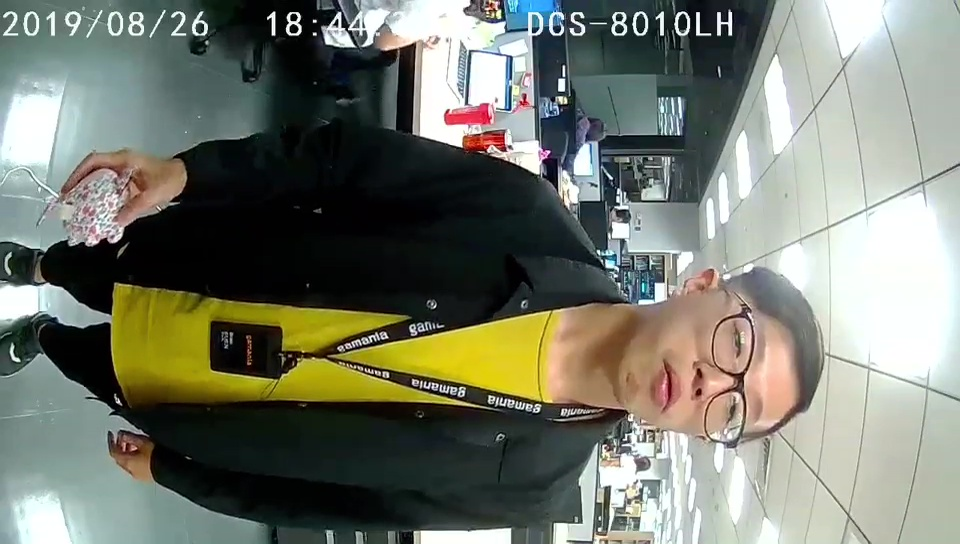pig: (58, 169, 131, 246)
